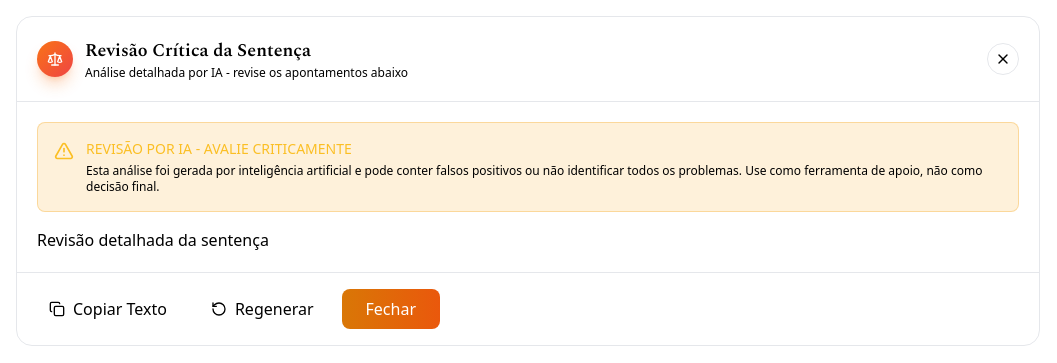
Scenario: SentenceReviewResultModal › Copy Functionality › should show success message after copying
The image size is (1057, 363).
Click the button "Copiar Texto" at (108,309), box [33, 289, 183, 329]
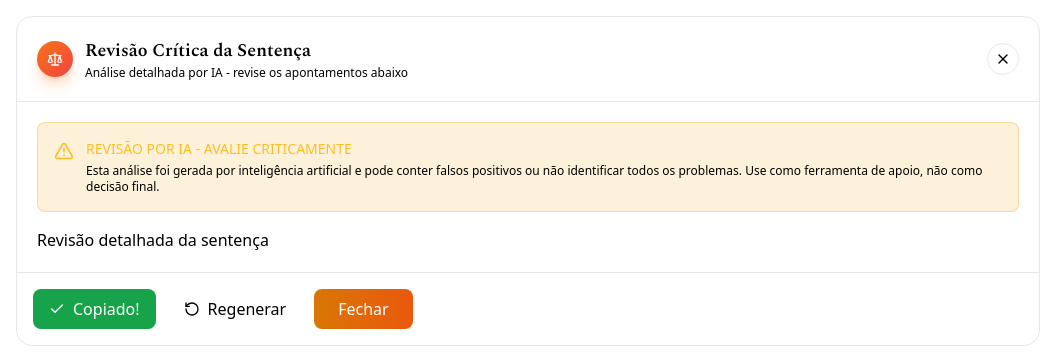
Check: the button "Copiado!" is shown, box [33, 289, 156, 329]
